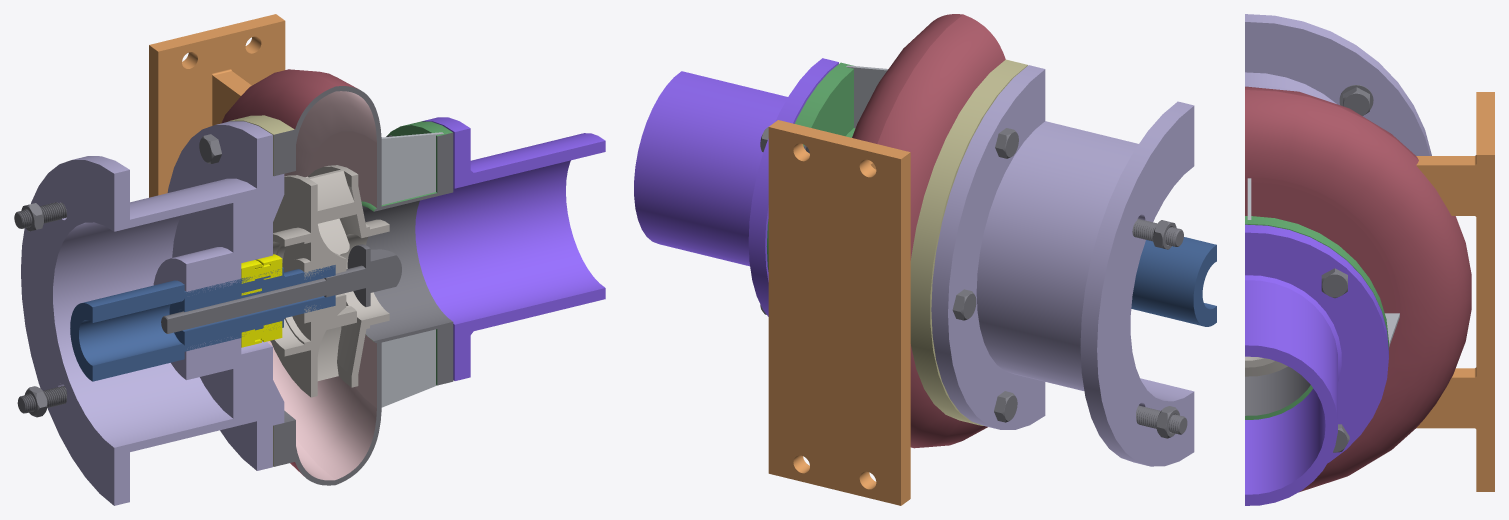
The model's file is Ysection-fbx.fbx.
3 renders of one model, left to right at view 1: azimuth 30°, elevation 25°; view 2: azimuth 150°, elevation 25°; view 3: azimuth 270°, elevation 25°, orthographic. The views are drawn at different scales.
Parts seen in each view (by area): view 1: /var/mobile/Containers/Data/Application/5C7D4EF0-970E-43D7-A, Drum, Front, pump impeller.SLDPRT, Big Shaft, Top bolts, Bearing; view 2: /var/mobile/Containers/Data/Application/5C7D4EF0-970E-43D7-A, Drum, Front, Big Shaft, Top bolts, Volute bolts; view 3: /var/mobile/Containers/Data/Application/5C7D4EF0-970E-43D7-A, Front, Drum, Volute bolts, Top bolts, pump impeller.SLDPRT.
Part boxes in pixels (x1,y1,x2,y2): /var/mobile/Containers/Data/Application/5C7D4EF0-970E-43D7-A: (149,14,453,485); Drum: (21,121,284,505); Front: (415,117,605,380); pump impeller.SLDPRT: (270,165,389,397); Big Shaft: (70,265,335,381); Top bolts: (14,202,67,417); Bearing: (241,254,282,347); /var/mobile/Containers/Data/Application/5C7D4EF0-970E-43D7-A: (766,14,1027,505); Drum: (931,65,1194,466); Front: (634,58,838,316); Big Shaft: (1131,237,1216,326); Top bolts: (1132,218,1187,438); Volute bolts: (760,127,1018,422); /var/mobile/Containers/Data/Application/5C7D4EF0-970E-43D7-A: (1245,86,1494,492); Front: (1245,224,1388,505); Drum: (1245,14,1431,155); Volute bolts: (1321,268,1349,452); Top bolts: (1339,85,1373,115); pump impeller.SLDPRT: (1245,356,1287,376).
Size of the model in its own units: 33.53 by 24 by 13.43.
